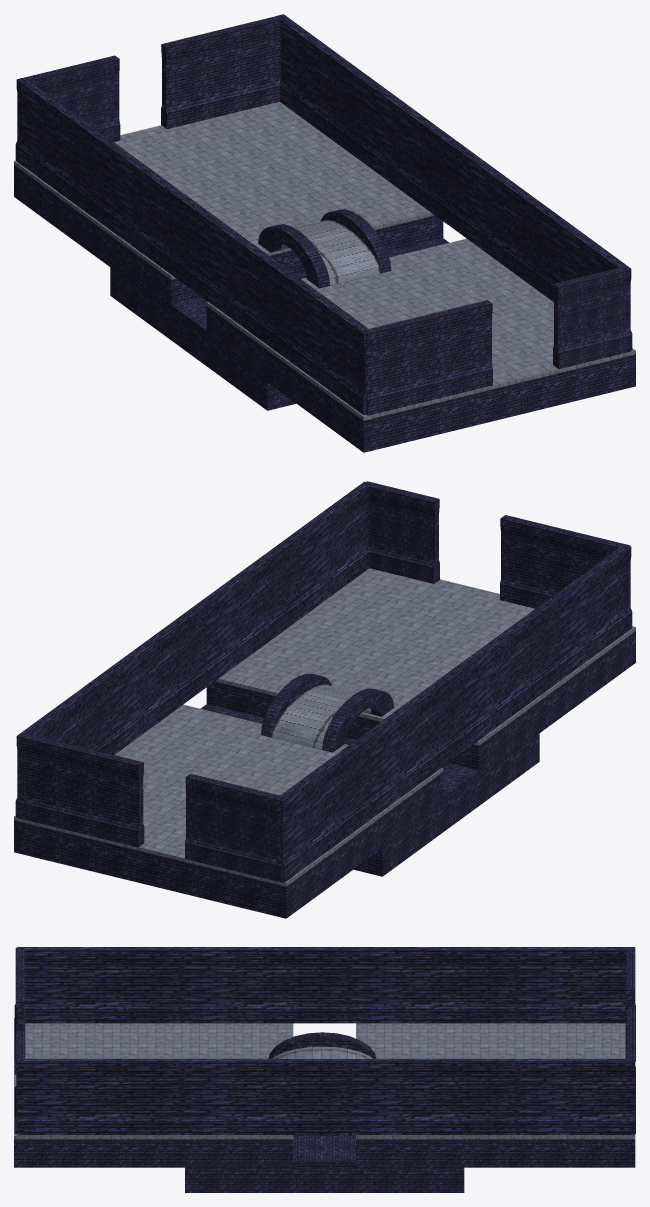
File: bridge-room.glb
3 views of the same model, one above another, from view 1: azimuth 30°, elevation 25°; view 2: azimuth 150°, elevation 25°; view 3: azimuth 270°, elevation 25° (orthographic). The views are drawn at different scales.
Visible parts, largest first — view 1: wall (×6), floor (×3), cylinderHollow_half (×3); view 2: wall (×6), floor (×3), cylinderHollow_half (×3); view 3: wall (×6), floor (×3), cylinderHollow_half (×2).
Part boxes in pixels (bbox=[...]): wall (×6): bbox=[15, 14, 632, 415]; floor (×3): bbox=[14, 101, 635, 452]; cylinderHollow_half (×3): bbox=[258, 209, 391, 288]; wall (×6): bbox=[15, 481, 632, 882]; floor (×3): bbox=[14, 568, 635, 918]; cylinderHollow_half (×3): bbox=[261, 673, 394, 752]; wall (×6): bbox=[14, 947, 635, 1135]; floor (×3): bbox=[14, 1018, 635, 1192]; cylinderHollow_half (×2): bbox=[268, 1032, 376, 1058].
Size of the model in its own units: 8 by 4.08 by 17.82.
Materials: 21 (21 with a texture image).
